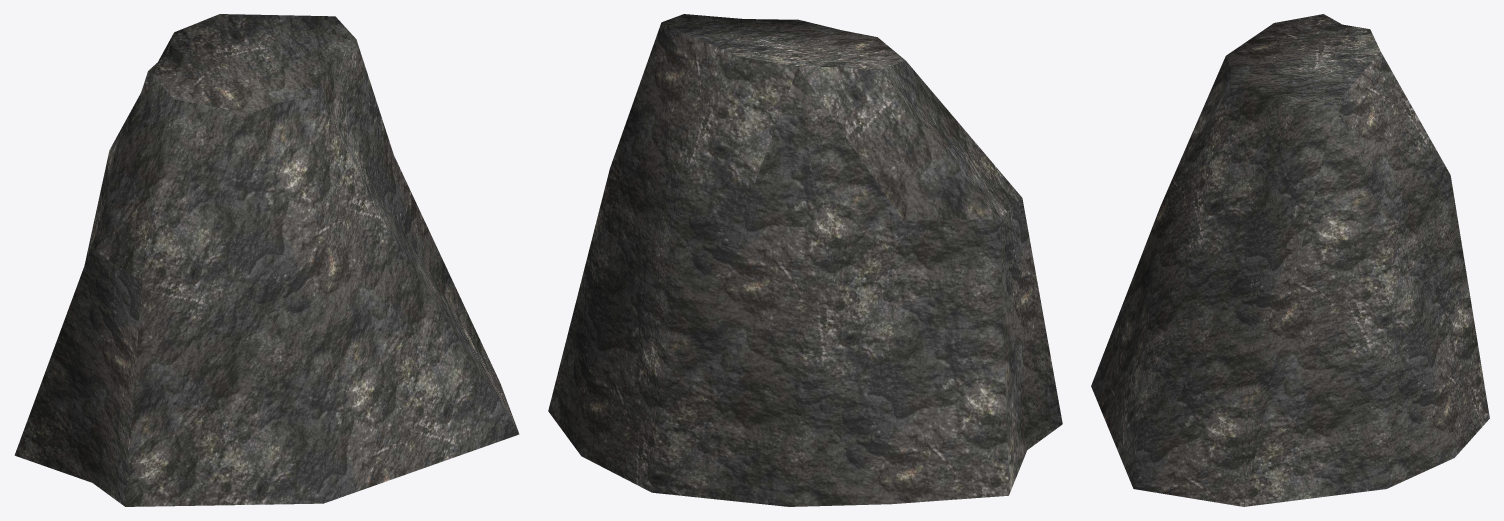
Rendered from rock_1.dae.
3 views of the same model, side by side, from view 1: azimuth 30°, elevation 25°; view 2: azimuth 150°, elevation 25°; view 3: azimuth 270°, elevation 25° (orthographic). The views are drawn at different scales.
Visible parts, largest first — view 1: Group1; view 2: Group1; view 3: Group1.
Part boxes in pixels (left/top/right/bottom): Group1: left=14, top=14, right=519, bottom=506; Group1: left=548, top=14, right=1062, bottom=506; Group1: left=1091, top=14, right=1489, bottom=506.
Size of the model in its own units: 217 by 177 by 175.
1 material, 1 textured.
